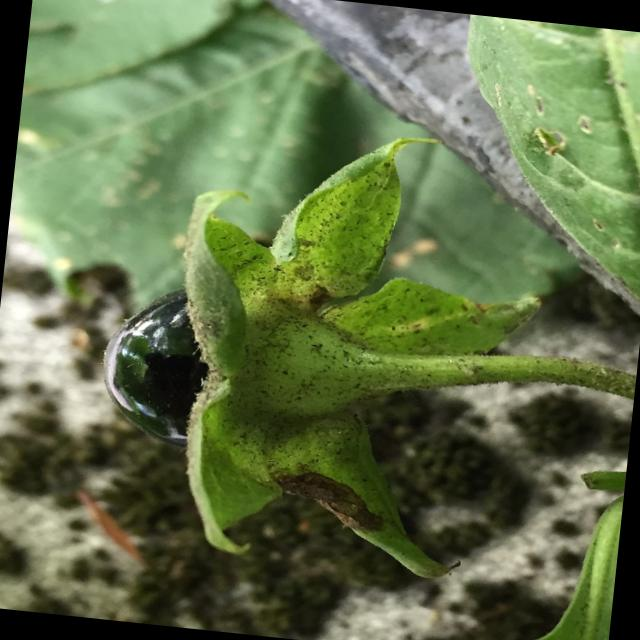Belladonna: (67, 59, 514, 602)
